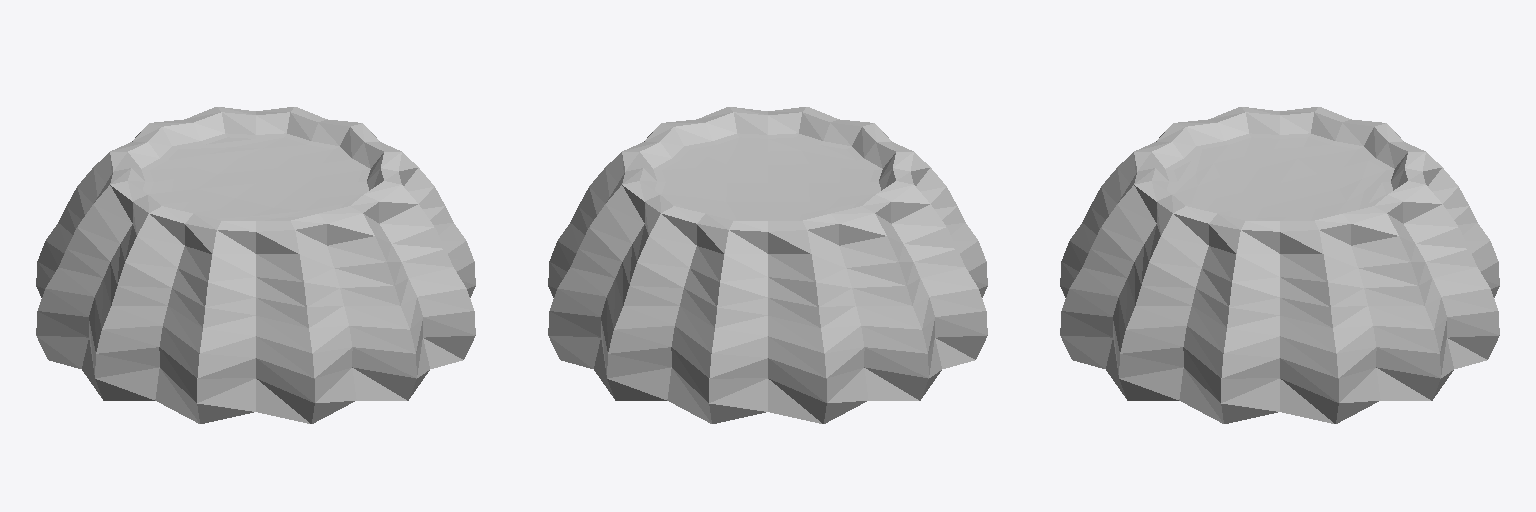
The model's file is jelly.obj.
The picture shows the model from 3 angles: view 1: azimuth 30°, elevation 25°; view 2: azimuth 150°, elevation 25°; view 3: azimuth 270°, elevation 25°; orthographic projection.
Visible parts, largest first — view 1: Sphere_Sphere.002; view 2: Sphere_Sphere.002; view 3: Sphere_Sphere.002.
Boxes of the visible parts, box(x1,y1,x2,y2) form: Sphere_Sphere.002: box(36, 107, 475, 423); Sphere_Sphere.002: box(548, 107, 987, 423); Sphere_Sphere.002: box(1060, 107, 1499, 423).
Size of the model in its own units: 2.38 by 1.07 by 2.38.